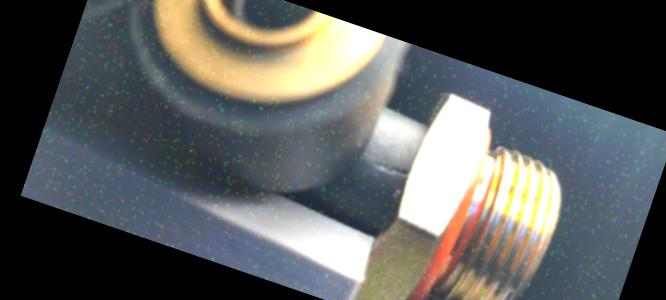craze: (369, 157, 410, 182)
